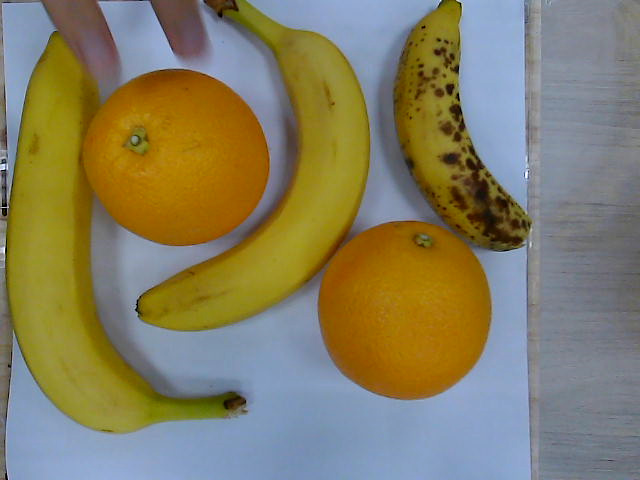fresh_banana: (141, 1, 370, 332), (6, 33, 163, 433)
fresh_orange: (79, 68, 274, 248), (316, 220, 493, 401)
rotten_banana: (395, 1, 535, 250)
